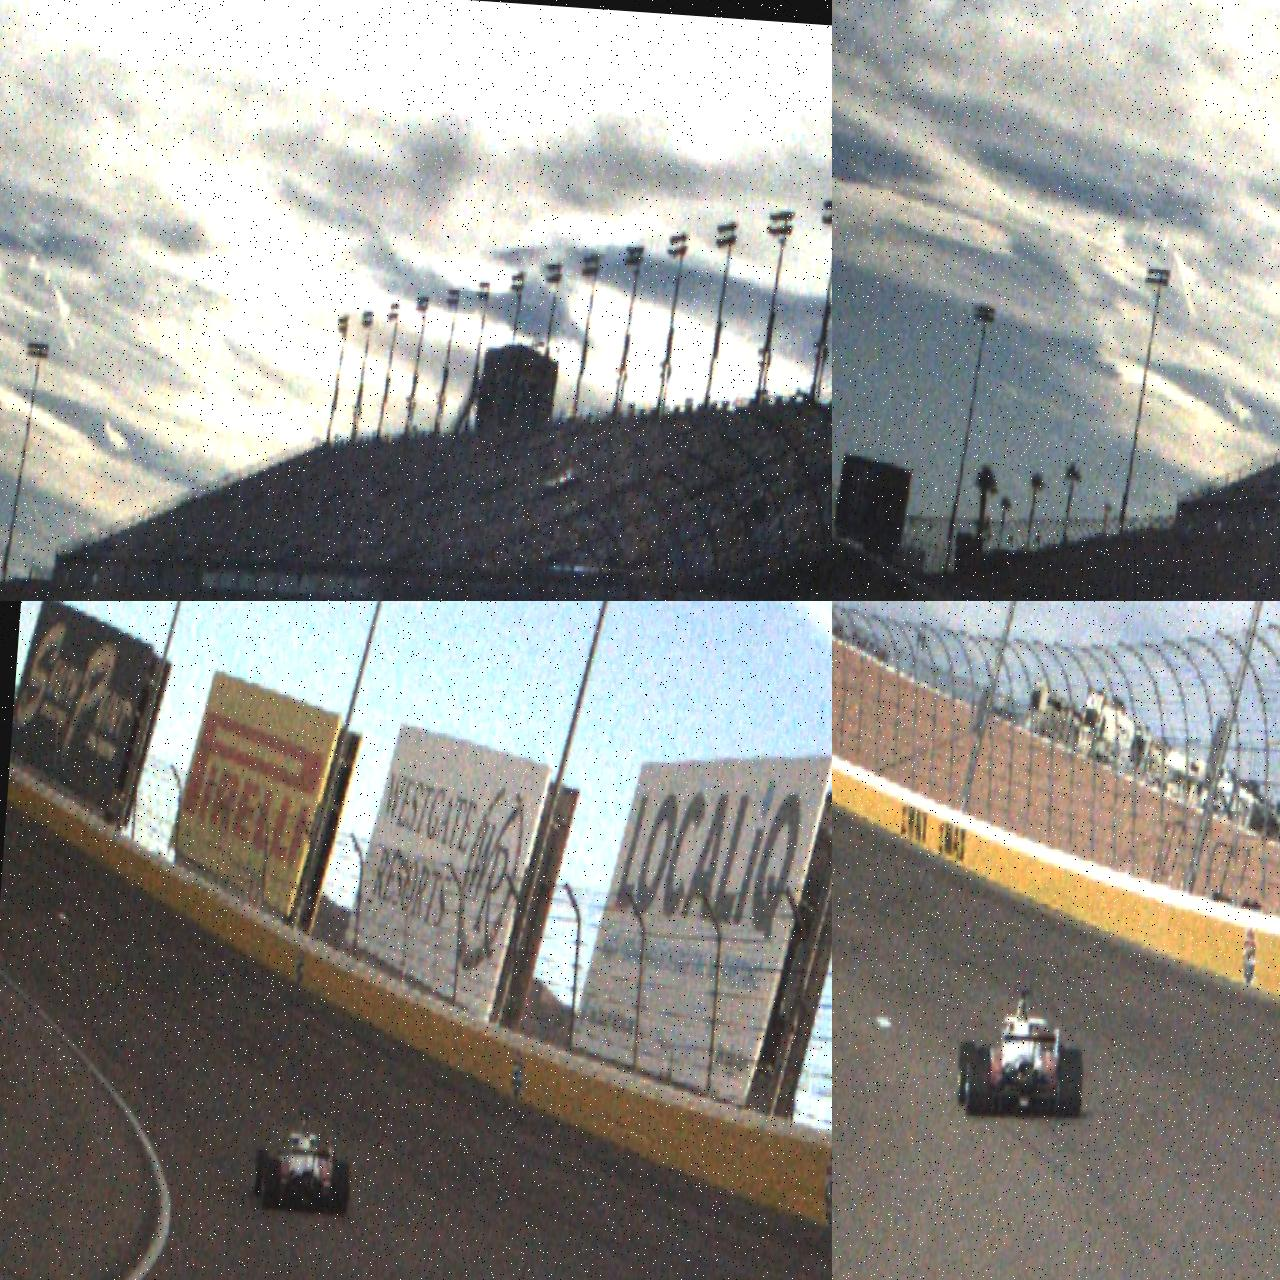AV: (955, 982, 1089, 1126), (251, 1105, 355, 1218)
Wheel: (1055, 1047, 1084, 1121), (965, 1047, 993, 1119), (956, 1042, 975, 1107), (331, 1160, 352, 1217), (261, 1158, 282, 1213), (252, 1148, 270, 1197)
